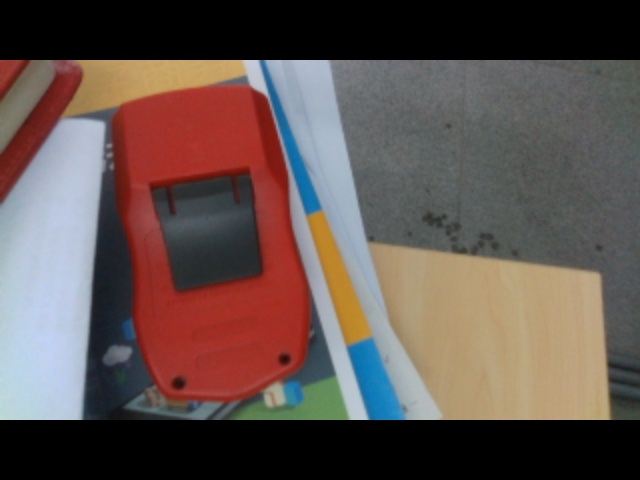Multimeter: (110, 81, 313, 397)
Screw holes: (169, 373, 188, 390), (277, 351, 293, 364)
